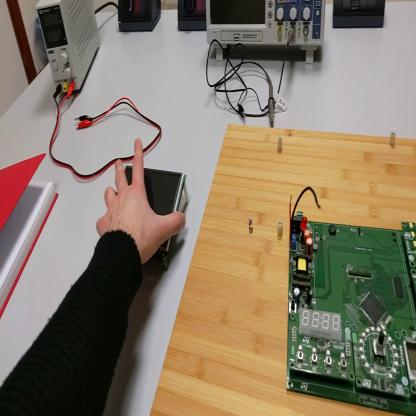hand: (97, 141, 186, 262)
low voltage board: (289, 189, 416, 415)
oscilloscope: (205, 1, 328, 69)
oscilloscope probe tip: (263, 69, 277, 127)
power supply: (37, 1, 102, 97)
register: (1, 158, 60, 318)
socket: (118, 3, 163, 32), (178, 2, 208, 35)
working area: (153, 111, 416, 414)
